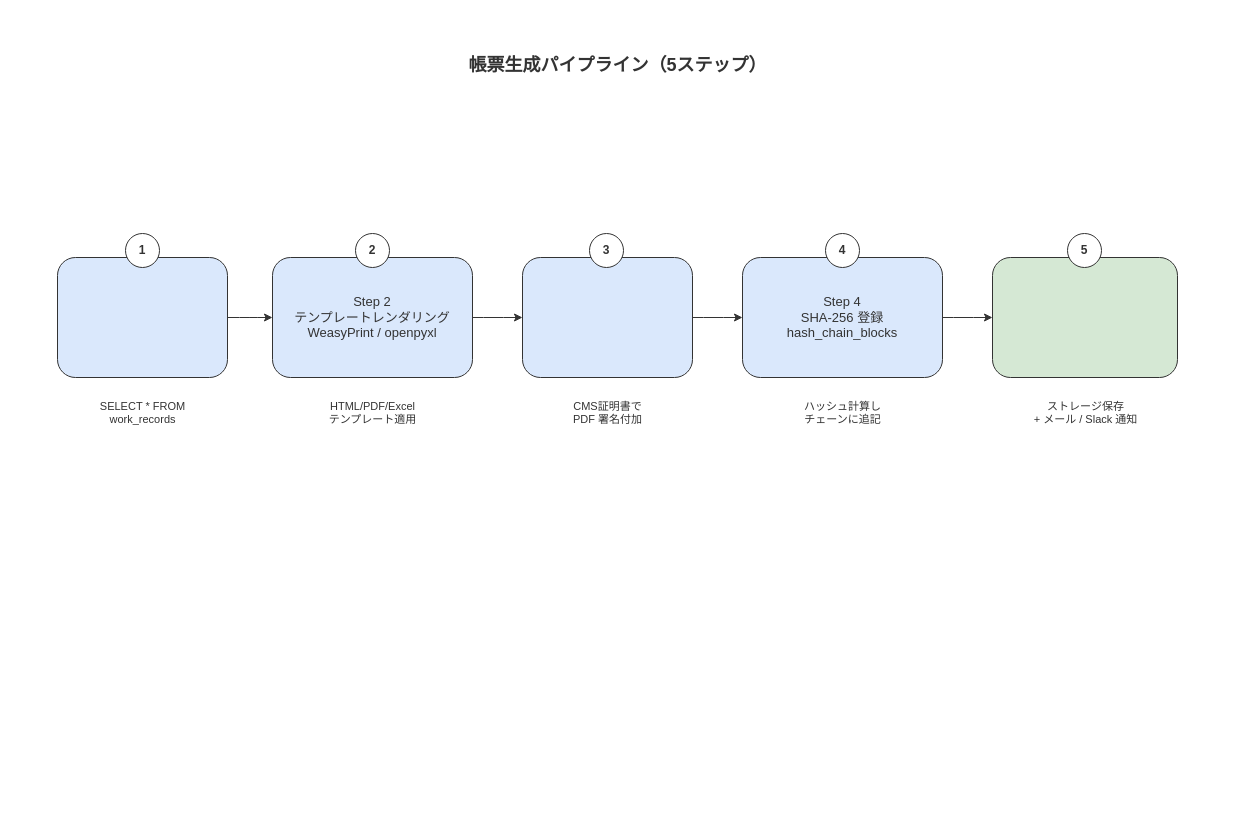
Some shapes in this 1234 by 834 pixel diagram are drawn without their labels. The shapes that lost their labels are listed below. From the top down, each one's box as (x1, y1, x2, y2) in pixels, then its label:
(56, 256, 228, 378): Step 1 データ抽出 PostgreSQL
(522, 256, 692, 378): Step 3 電子署名 PKCS#7
(992, 256, 1178, 378): Step 5 保管 + 通知
